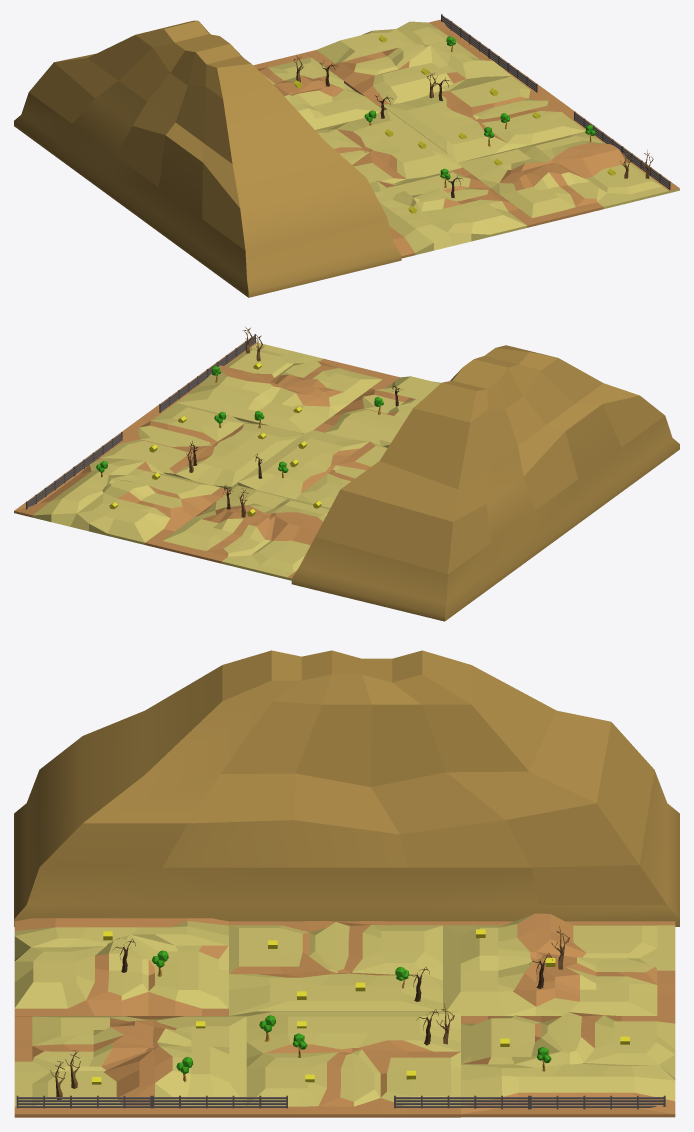
File: Mountain.fbx
3 renders of one model, top to bottom at view 1: azimuth 30°, elevation 25°; view 2: azimuth 150°, elevation 25°; view 3: azimuth 270°, elevation 25°, orthographic. The views are drawn at different scales.
Visible parts, largest first — view 1: Cube, Cube.011; view 2: Cube, Cube.011; view 3: Cube, Cube.011.
Part boxes in pixels (x1,y1,x2,y2): Cube: (14, 20, 401, 297); Cube.011: (253, 14, 679, 258); Cube: (291, 345, 679, 621); Cube.011: (14, 327, 440, 580); Cube: (14, 650, 679, 926); Cube.011: (14, 913, 675, 1117).
Bounding box in the file's own units: 34478 × 11389 × 32464.
